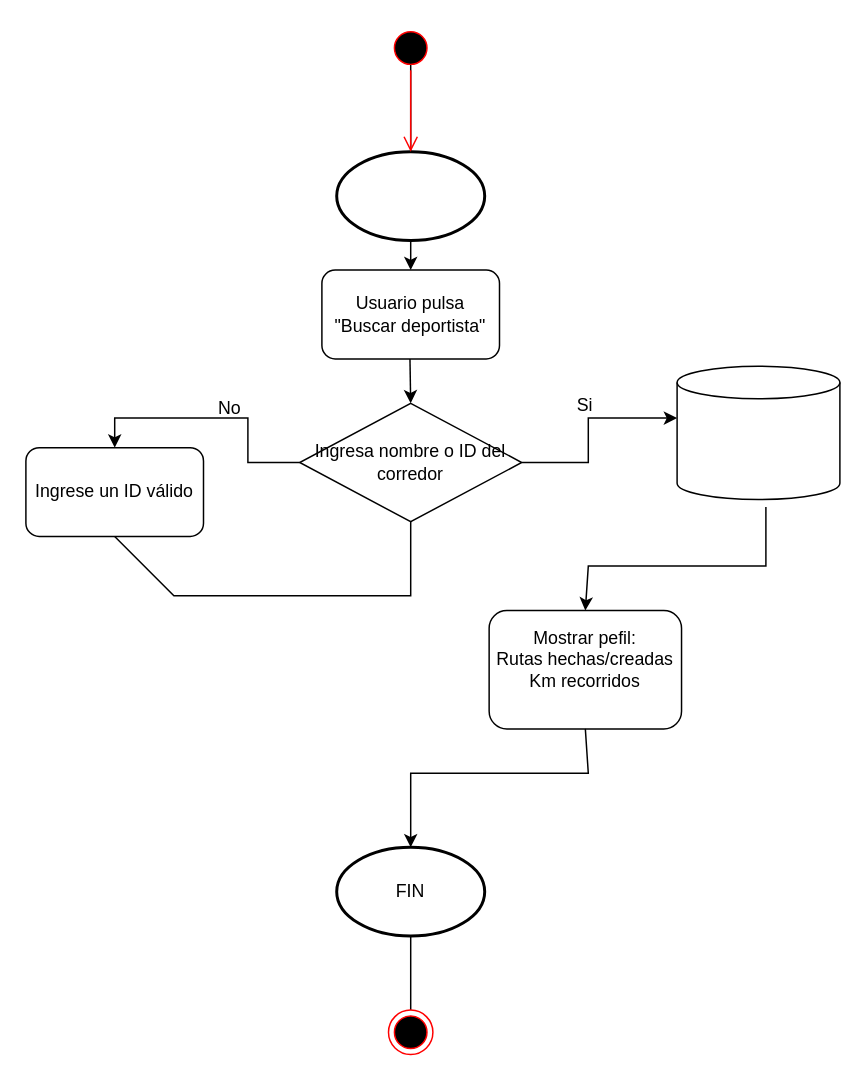
The diagram is 866 pixels wide and 1080 high, and some of its shapes have lost their labels. Each missing label, with the centre of its shape:
Comprobar que el id se encuentra en la base de datos: the point at 758,432
INICIO: the point at 409,195
